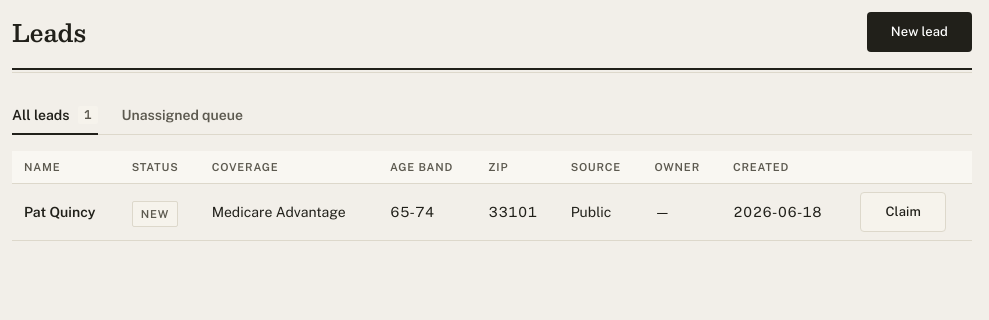
LeadsListPage claim action › surfaces a non-destructive inline error and keeps the list when a claim fails
Click the button with id "leads-list-row-claimable-claim-button" at coordinates (903, 212), box [860,192,946,232]
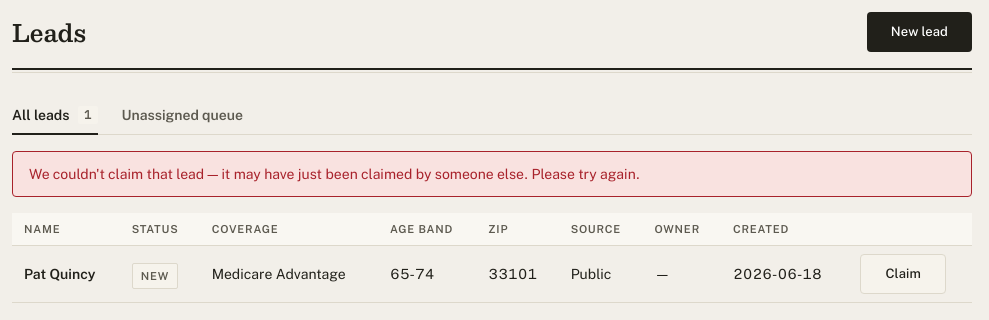
Check: the row with id "leads-list-row-claimable" is shown, box [12,246,972,302]
Check: the message with id "leads-list-claim-error" is shown, box [12,151,972,197]
